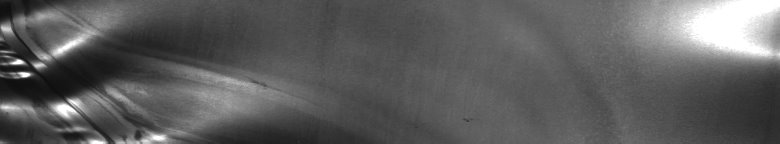ke: (4, 4, 231, 136)
